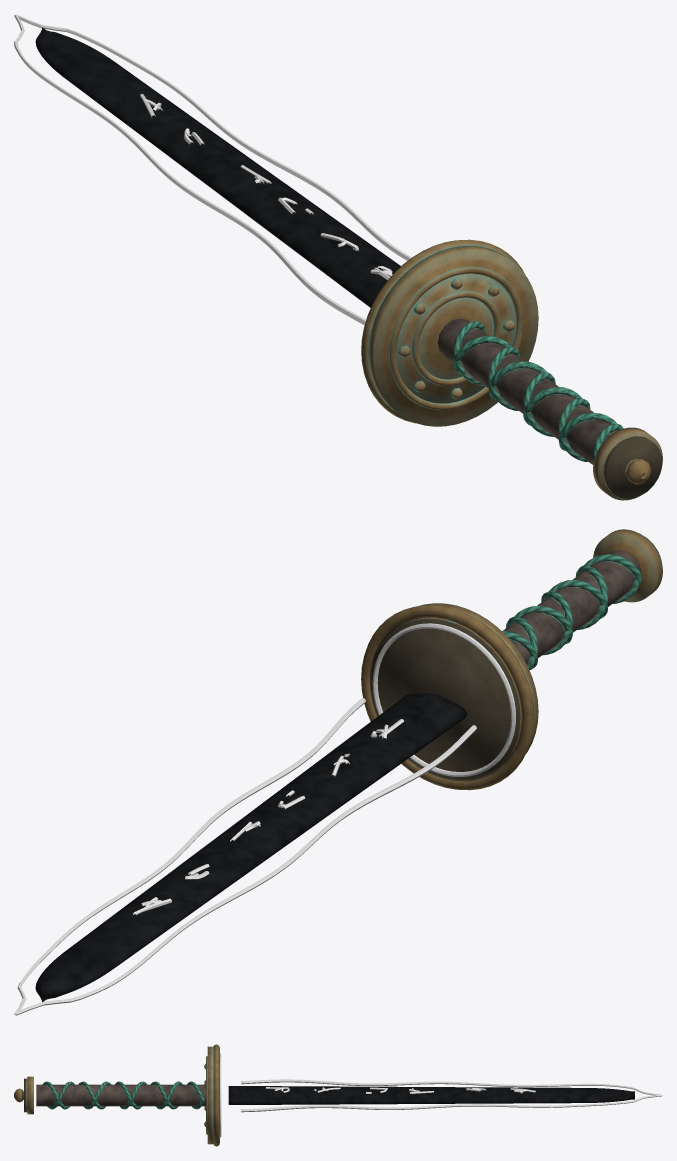
The model's file is Sword4.fbx.
3 renders of one model, top to bottom at view 1: azimuth 30°, elevation 25°; view 2: azimuth 150°, elevation 25°; view 3: azimuth 270°, elevation 25°, orthographic. The views are drawn at different scales.
Parts seen in each view (by area): view 1: Sword4_Body, Sword4_Glow_14d296; view 2: Sword4_Body, Sword4_Glow_14d296; view 3: Sword4_Body, Sword4_Glow_14d296.
Part boxes in pixels (x1,y1,x2,y2): Sword4_Body: [35, 27, 662, 500]; Sword4_Glow_14d296: [14, 14, 411, 325]; Sword4_Body: [35, 529, 662, 1001]; Sword4_Glow_14d296: [14, 623, 515, 1015]; Sword4_Body: [14, 1044, 634, 1146]; Sword4_Glow_14d296: [220, 1053, 662, 1137].
Size of the model in its own units: 0.92 by 0.92 by 5.83.
Materials: 2 (1 with a texture image).
